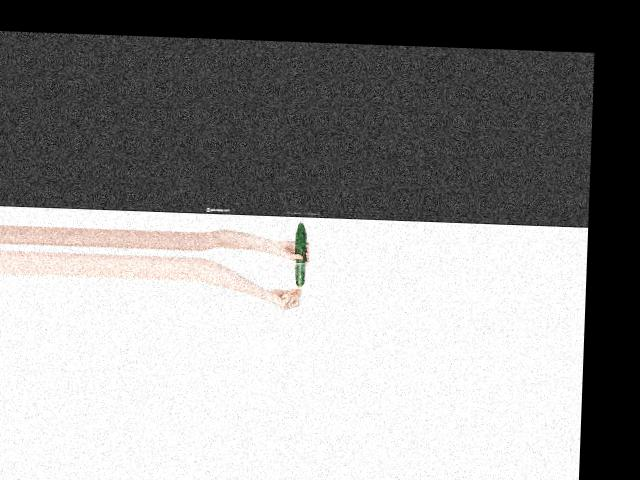cucumber: (295, 220, 307, 286)
